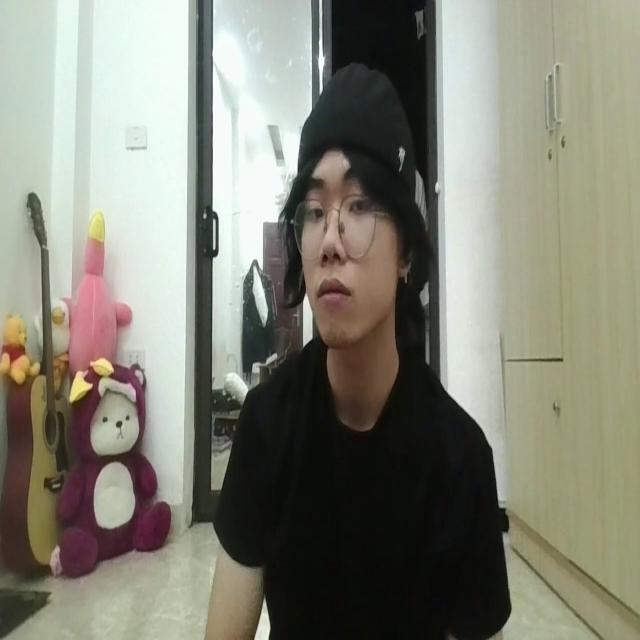student: (201, 49, 509, 640)
